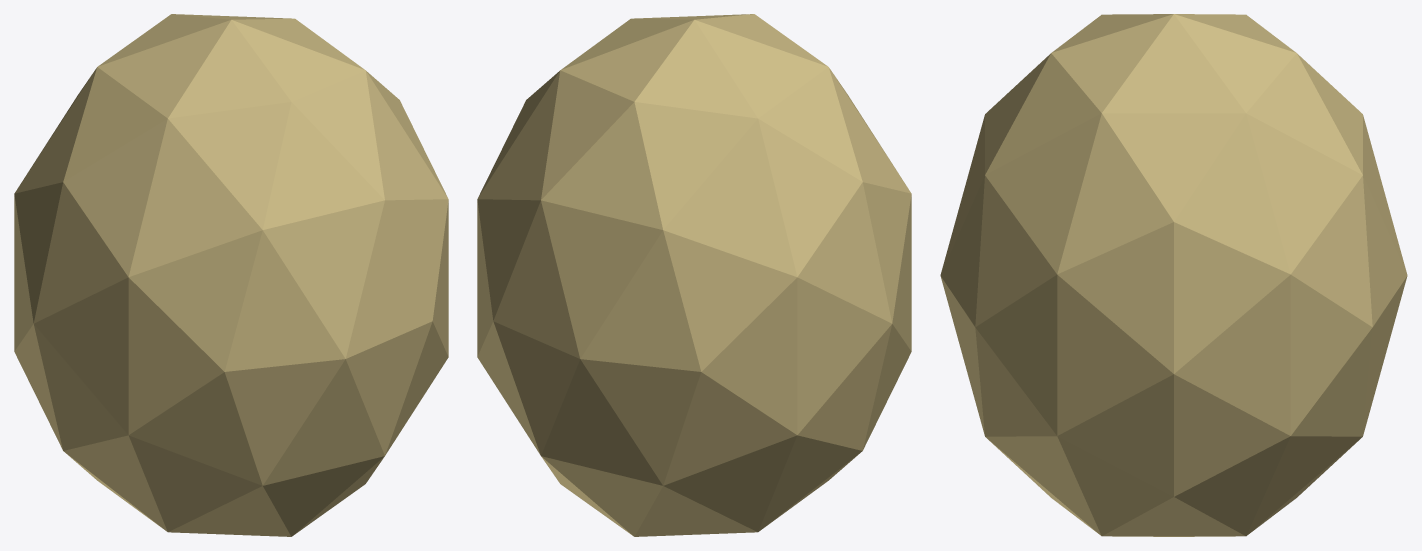
The model's file is haystack.glb.
The picture shows the model from 3 angles, left to right: view 1: azimuth 30°, elevation 25°; view 2: azimuth 150°, elevation 25°; view 3: azimuth 270°, elevation 25°; orthographic projection. The views are drawn at different scales.
Parts seen in each view (by area): view 1: part_0; view 2: part_0; view 3: part_0.
Part boxes in pixels (x1=…): part_0: x1=14, y1=14, x2=448, y2=536; part_0: x1=477, y1=14, x2=911, y2=536; part_0: x1=940, y1=14, x2=1407, y2=536.
Bounding box in the file's own units: 1.7 × 2.1 × 1.7.
